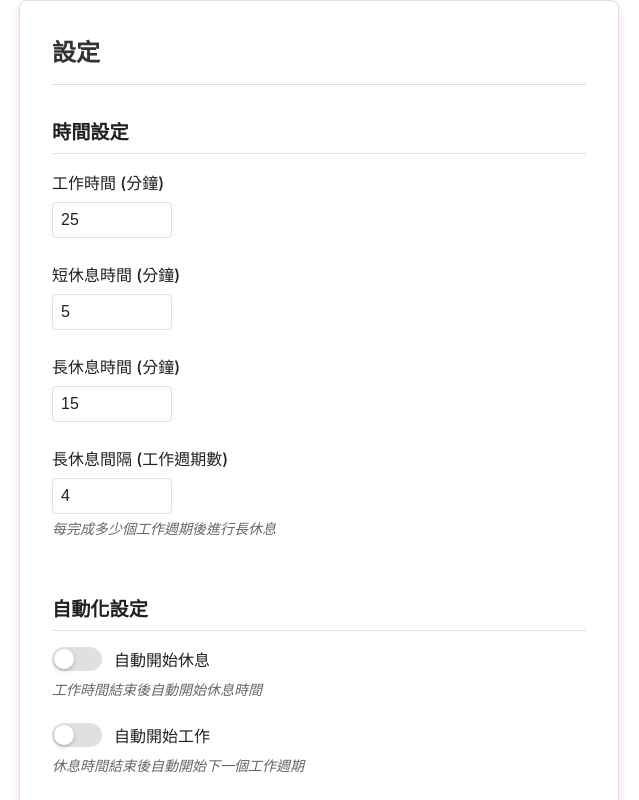
Test: SettingsPanel › Time Settings › should show error for invalid long break duration
Replace the text in the number field labelled "長休息時間 (分鐘)" with "150" at (112, 404), box 52,386 -> 172,422
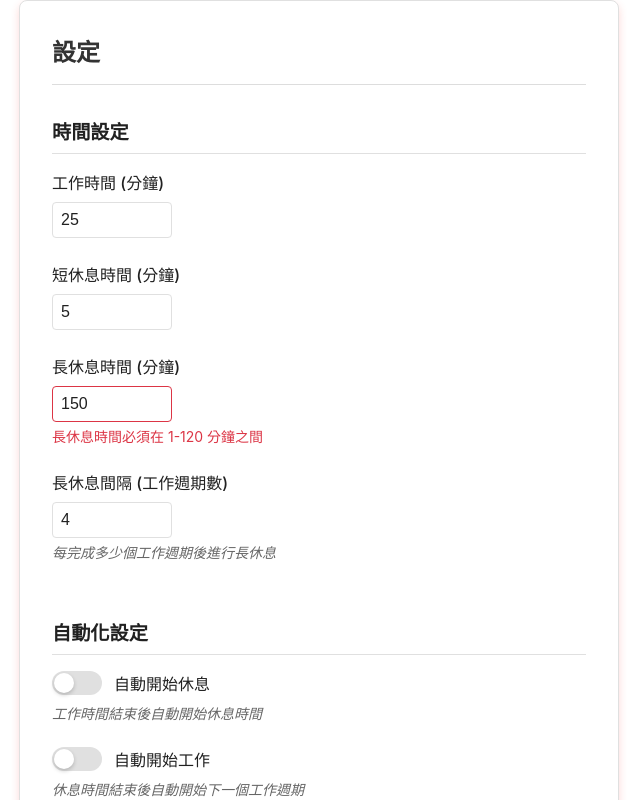
Expected: the text "長休息時間必須在 1-120 分鐘之間" is shown, 52,428 -> 263,445
